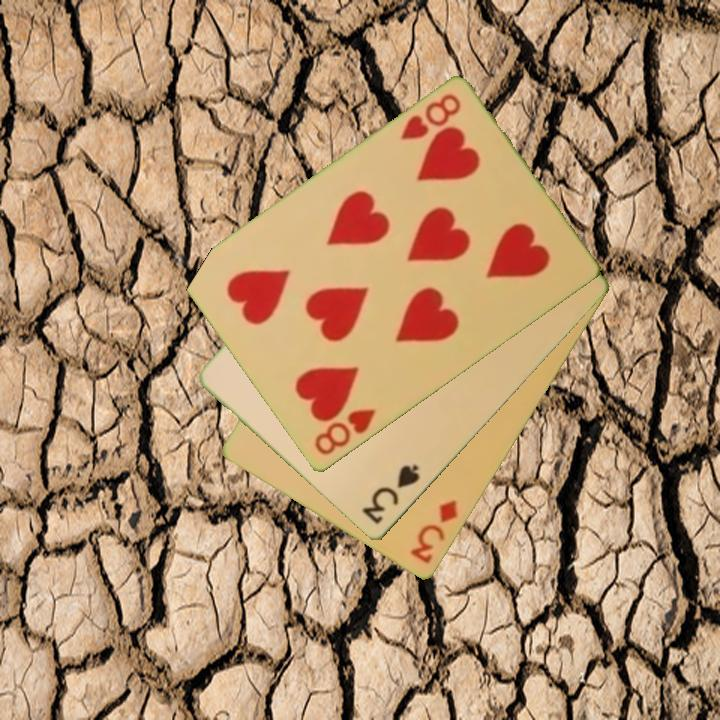3d: (407, 497, 461, 568)
3s: (358, 461, 423, 528)
8h: (311, 405, 379, 459), (396, 90, 464, 144)
